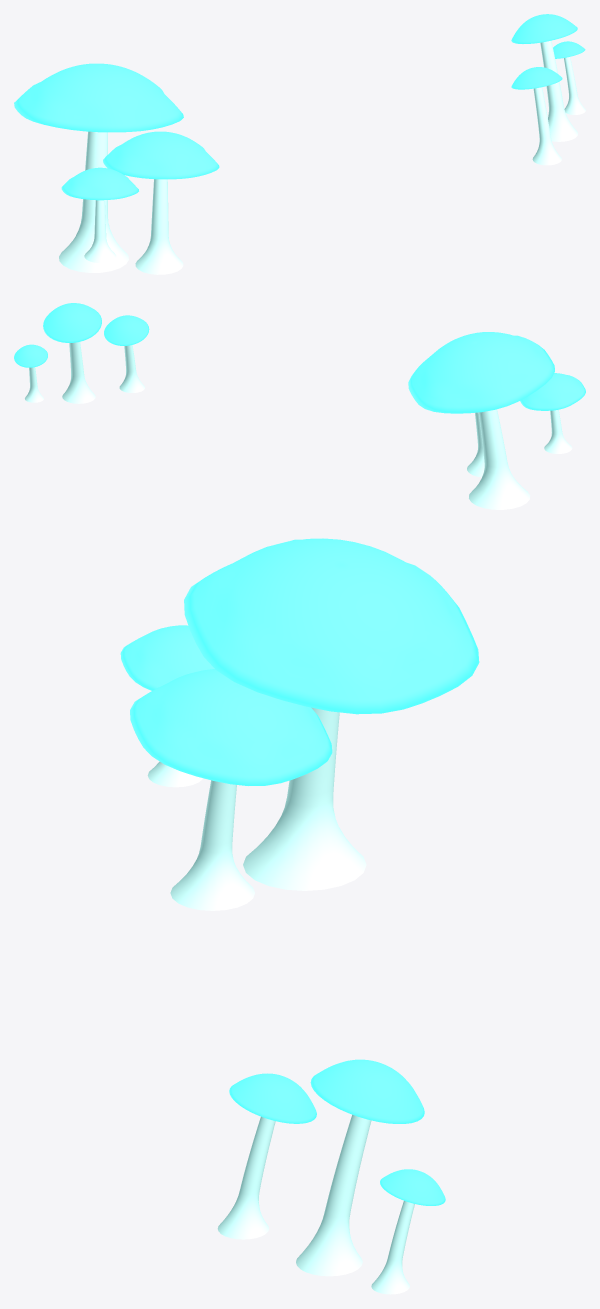
Rendered from prop_mushroom_cyan.glb.
3 views of the same model, one above another, from view 1: azimuth 30°, elevation 25°; view 2: azimuth 150°, elevation 25°; view 3: azimuth 270°, elevation 25° (orthographic). The views are drawn at different scales.
Parts seen in each view (by area): view 1: Left_Shroom_Large_Cap, Left_Shroom_Medium_Cap, Left_Shroom_Large_Stem, Left_Shroom_Medium_Stem, Left_Shroom_Small_Cap, Right_Dome_Mushroom_1_Stem, Right_Dome_Mushroom_1_Cap, Right_Dome_Mushroom_2_Stem, Left_Shroom_Small_Stem, Right_Dome_Mushroom_2_Cap, Right_Dome_Mushroom_3_Stem, Right_Dome_Mushroom_3_Cap; view 2: Left_Shroom_Large_Cap, Left_Shroom_Large_Stem, Right_Dome_Mushroom_1_Cap, Left_Shroom_Small_Cap, Right_Dome_Mushroom_2_Cap, Right_Dome_Mushroom_1_Stem, Left_Shroom_Small_Stem, Right_Dome_Mushroom_2_Stem, Right_Dome_Mushroom_3_Cap, Left_Shroom_Medium_Stem, Right_Dome_Mushroom_3_Stem; view 3: Left_Shroom_Large_Cap, Left_Shroom_Medium_Cap, Left_Shroom_Large_Stem, Left_Shroom_Medium_Stem, Right_Dome_Mushroom_1_Cap, Right_Dome_Mushroom_1_Stem, Left_Shroom_Small_Cap, Right_Dome_Mushroom_2_Cap, Right_Dome_Mushroom_2_Stem, Right_Dome_Mushroom_3_Stem, Right_Dome_Mushroom_3_Cap.
Boxes of the visible parts, left/top/right/bottom form: Left_Shroom_Large_Cap: left=14, top=63, right=183, bottom=132; Left_Shroom_Medium_Cap: left=103, top=131, right=219, bottom=179; Left_Shroom_Large_Stem: left=59, top=131, right=128, bottom=272; Left_Shroom_Medium_Stem: left=135, top=179, right=183, bottom=274; Left_Shroom_Small_Cap: left=61, top=167, right=138, bottom=200; Right_Dome_Mushroom_1_Stem: left=540, top=40, right=577, bottom=141; Right_Dome_Mushroom_1_Cap: left=511, top=14, right=577, bottom=43; Right_Dome_Mushroom_2_Stem: left=532, top=87, right=561, bottom=165; Left_Shroom_Small_Stem: left=84, top=200, right=116, bottom=262; Right_Dome_Mushroom_2_Cap: left=511, top=67, right=562, bottom=89; Right_Dome_Mushroom_3_Stem: left=564, top=57, right=585, bottom=114; Right_Dome_Mushroom_3_Cap: left=553, top=41, right=585, bottom=58; Left_Shroom_Large_Cap: left=408, top=332, right=554, bottom=413; Left_Shroom_Large_Stem: left=469, top=409, right=530, bottom=509; Right_Dome_Mushroom_1_Cap: left=43, top=303, right=101, bottom=342; Left_Shroom_Small_Cap: left=520, top=373, right=585, bottom=410; Right_Dome_Mushroom_2_Cap: left=104, top=315, right=149, bottom=345; Right_Dome_Mushroom_1_Stem: left=62, top=342, right=95, bottom=403; Left_Shroom_Small_Stem: left=544, top=410, right=572, bottom=453; Right_Dome_Mushroom_2_Stem: left=119, top=345, right=144, bottom=392; Right_Dome_Mushroom_3_Cap: left=14, top=344, right=47, bottom=367; Left_Shroom_Medium_Stem: left=467, top=412, right=484, bottom=477; Right_Dome_Mushroom_3_Stem: left=25, top=367, right=43, bottom=402; Left_Shroom_Large_Cap: left=184, top=538, right=479, bottom=714; Left_Shroom_Medium_Cap: left=130, top=669, right=332, bottom=785; Left_Shroom_Large_Stem: left=243, top=707, right=366, bottom=890; Left_Shroom_Medium_Stem: left=170, top=780, right=254, bottom=910; Right_Dome_Mushroom_1_Cap: left=310, top=1059, right=424, bottom=1123; Right_Dome_Mushroom_1_Stem: left=296, top=1114, right=371, bottom=1276; Left_Shroom_Small_Cap: left=120, top=625, right=214, bottom=690; Right_Dome_Mushroom_2_Cap: left=229, top=1073, right=316, bottom=1123; Right_Dome_Mushroom_2_Stem: left=217, top=1116, right=275, bottom=1239; Right_Dome_Mushroom_3_Stem: left=371, top=1201, right=414, bottom=1294; Right_Dome_Mushroom_3_Cap: left=380, top=1169, right=445, bottom=1205.
Bounding box in the file's own units: 9.58 × 2.86 × 2.92.
